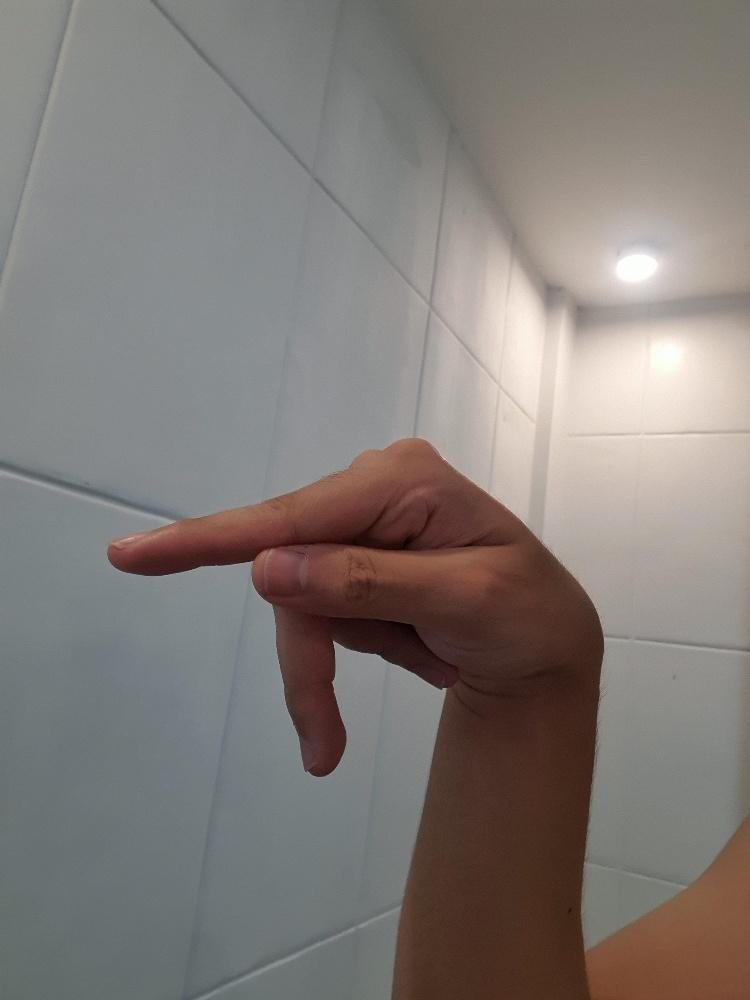p: (102, 432, 606, 780)
